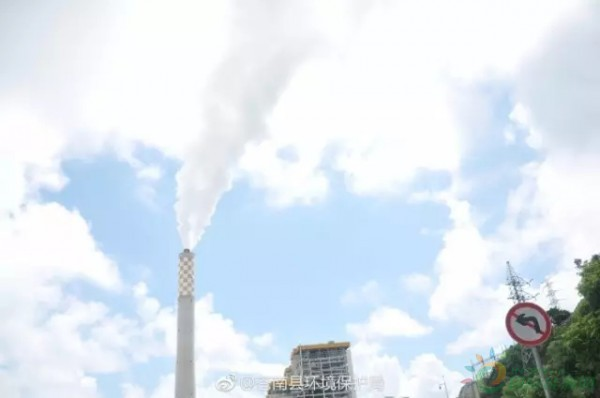dust: (160, 103, 261, 254)
